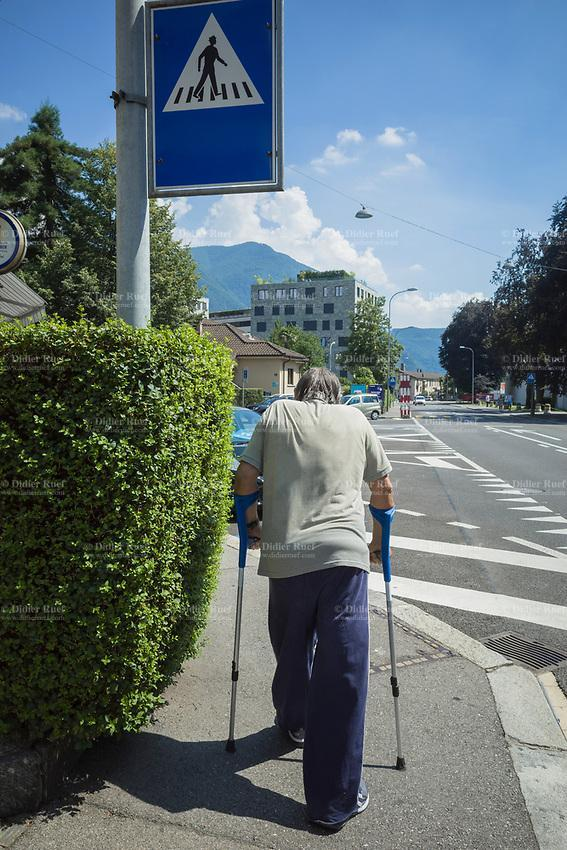crutches: (219, 356, 428, 833)
